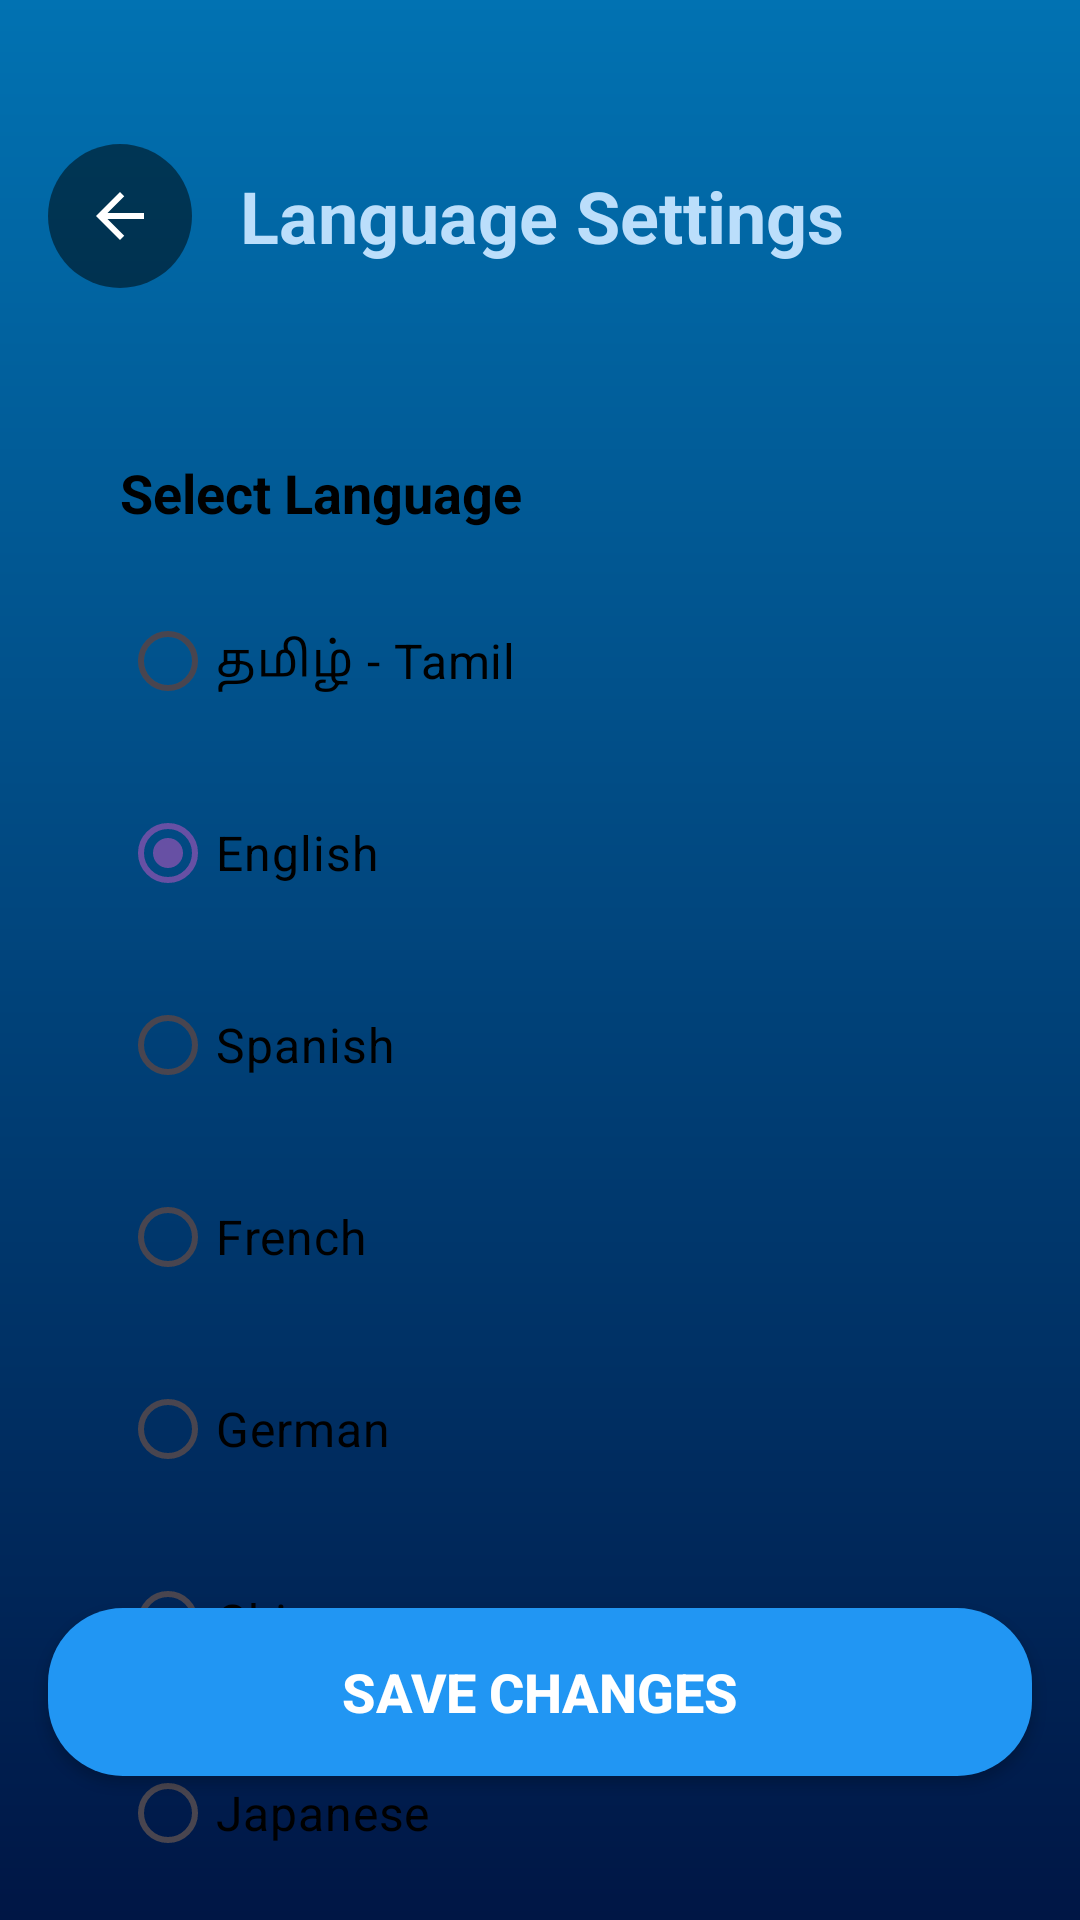

Icons on this 1080*1920 Android screen, each with the point to tap as point (x, y):
Back button: point (120, 216)
